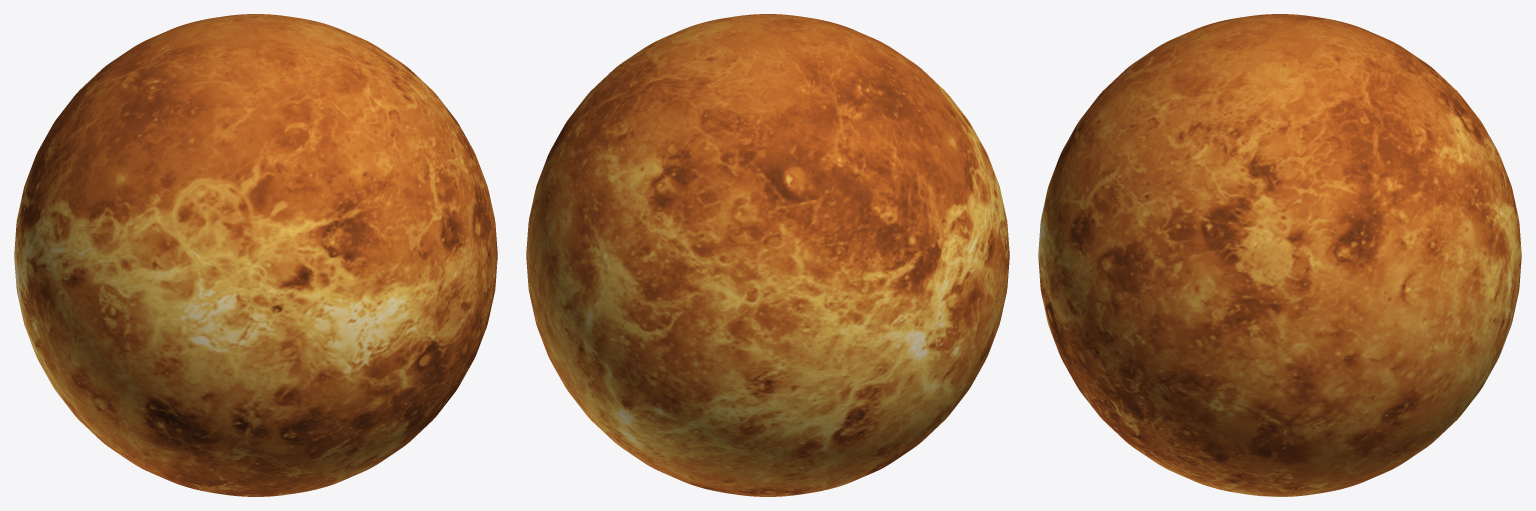
Rendered from venus.glb.
The picture shows the model from 3 angles, left to right: view 1: azimuth 30°, elevation 25°; view 2: azimuth 150°, elevation 25°; view 3: azimuth 270°, elevation 25°; orthographic projection.
Visible parts, largest first — view 1: Sphere; view 2: Sphere; view 3: Sphere.
Part boxes in pixels (x1=…): Sphere: x1=14, y1=14, x2=497, y2=496; Sphere: x1=526, y1=14, x2=1009, y2=496; Sphere: x1=1038, y1=14, x2=1521, y2=496.
Size of the model in its own units: 200 by 200 by 200.
1 material, 1 textured.
